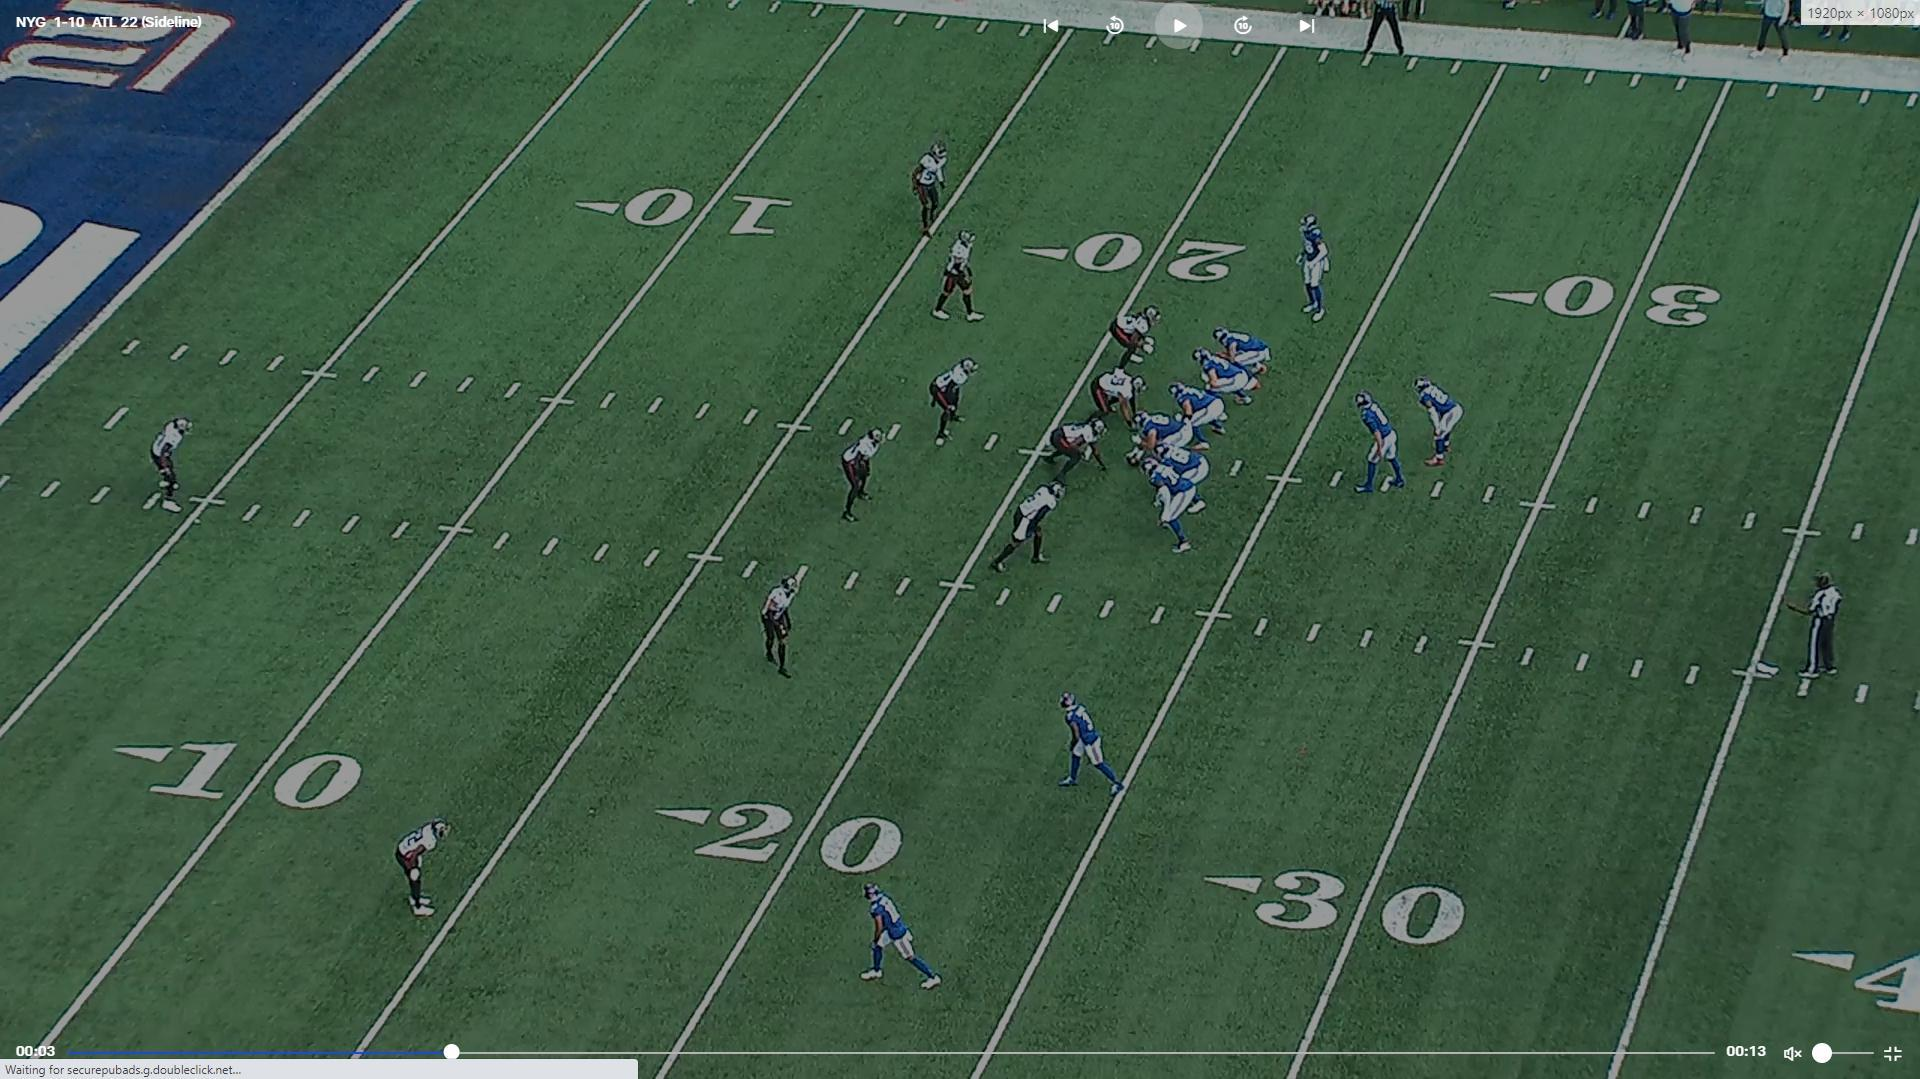defense: (989, 481, 1065, 578), (394, 815, 452, 926), (1035, 420, 1110, 491), (756, 570, 803, 683), (834, 429, 885, 528), (934, 228, 985, 326), (1083, 371, 1152, 440), (930, 354, 981, 446), (152, 416, 197, 519), (912, 140, 956, 237), (1112, 305, 1167, 376)
oline: (1135, 458, 1199, 555), (1149, 444, 1210, 519), (1168, 381, 1229, 452), (1197, 350, 1260, 414), (1131, 409, 1194, 460)
qb: (1345, 388, 1403, 495)
ref: (1796, 575, 1849, 696), (1356, 0, 1412, 60)
skill: (853, 880, 944, 1000), (1053, 689, 1135, 806), (1408, 373, 1463, 470), (1292, 210, 1336, 327), (1216, 321, 1279, 391)
